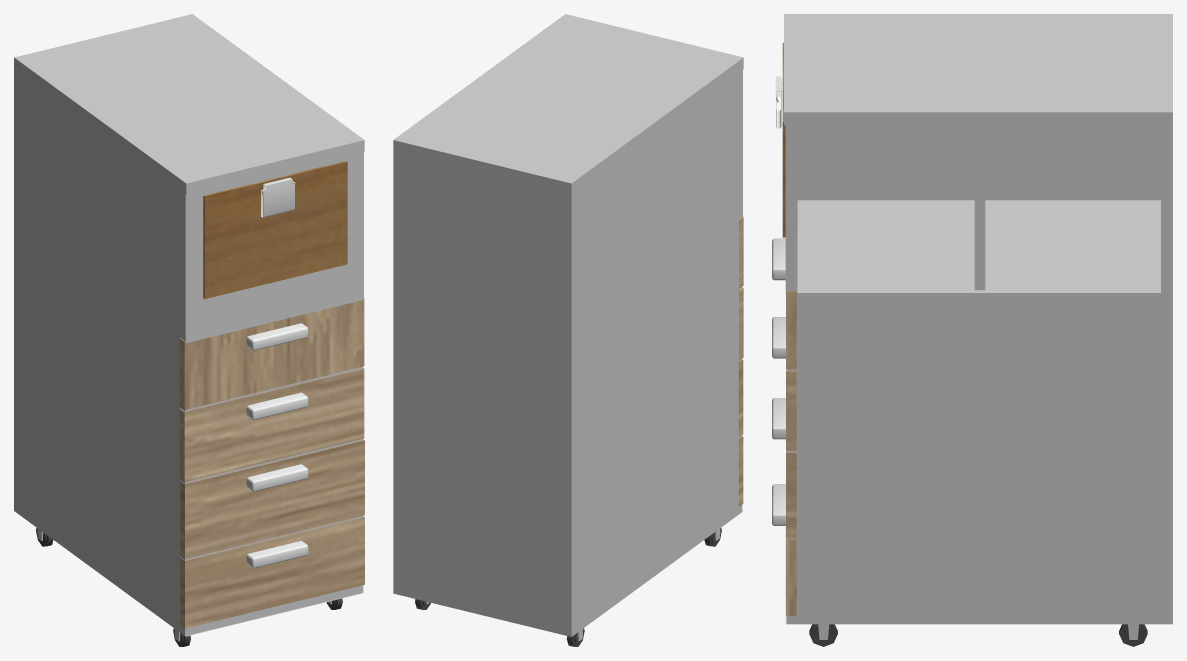
Rendered from LC_3098_DresserB_LOD2.FBX.
3 views of the same model, side by side, from view 1: azimuth 30°, elevation 25°; view 2: azimuth 150°, elevation 25°; view 3: azimuth 270°, elevation 25° (orthographic). The views are drawn at different scales.
Visible parts, largest first — view 1: LC_3098_DresserB_LOD2; view 2: LC_3098_DresserB_LOD2; view 3: LC_3098_DresserB_LOD2.
Boxes of the visible parts, box(x1,y1,x2,y2) form: LC_3098_DresserB_LOD2: box(14, 14, 364, 646); LC_3098_DresserB_LOD2: box(393, 14, 743, 646); LC_3098_DresserB_LOD2: box(772, 14, 1172, 646).
Bounding box in the file's own units: 50.99 × 129 × 86.92.
1 material, 1 textured.
